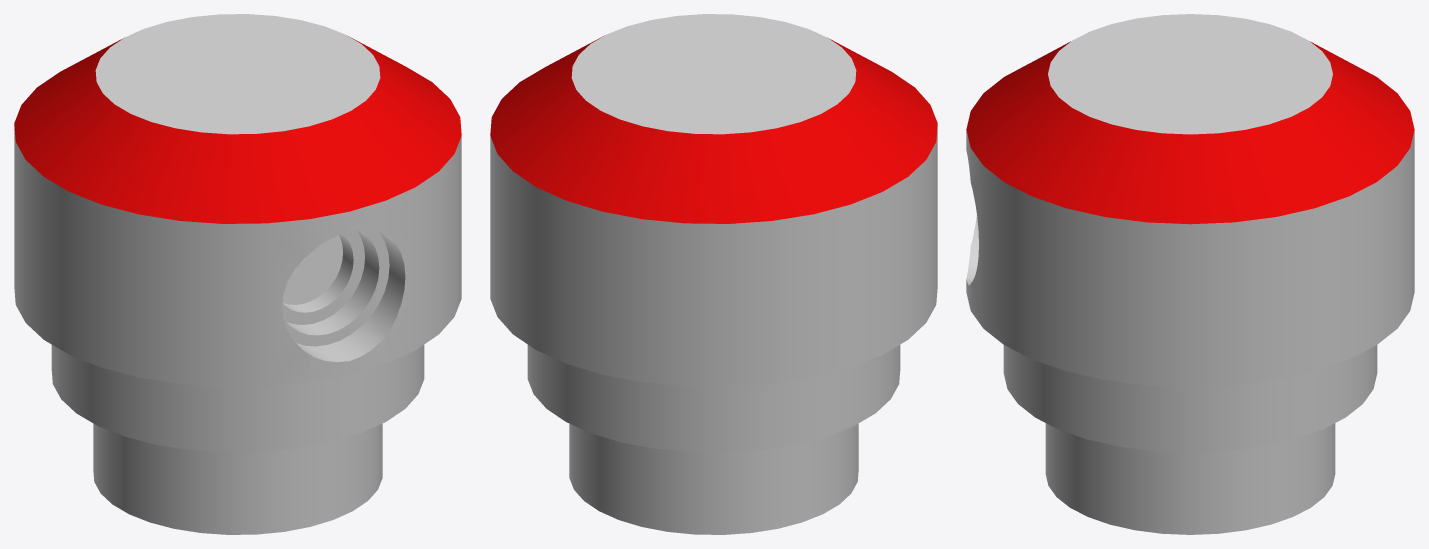
Rendered from GiantRobotHitbox.fbx.
3 renders of one model, left to right at view 1: azimuth 30°, elevation 25°; view 2: azimuth 150°, elevation 25°; view 3: azimuth 270°, elevation 25°, orthographic.
Parts seen in each view (by area): view 1: Cylinder; view 2: Cylinder; view 3: Cylinder.
Part boxes in pixels (<box>): Cylinder: <box>14,14,461,534</box>; Cylinder: <box>490,14,937,534</box>; Cylinder: <box>966,14,1414,534</box>.
Bounding box in the file's own units: 309 × 304 × 309.
